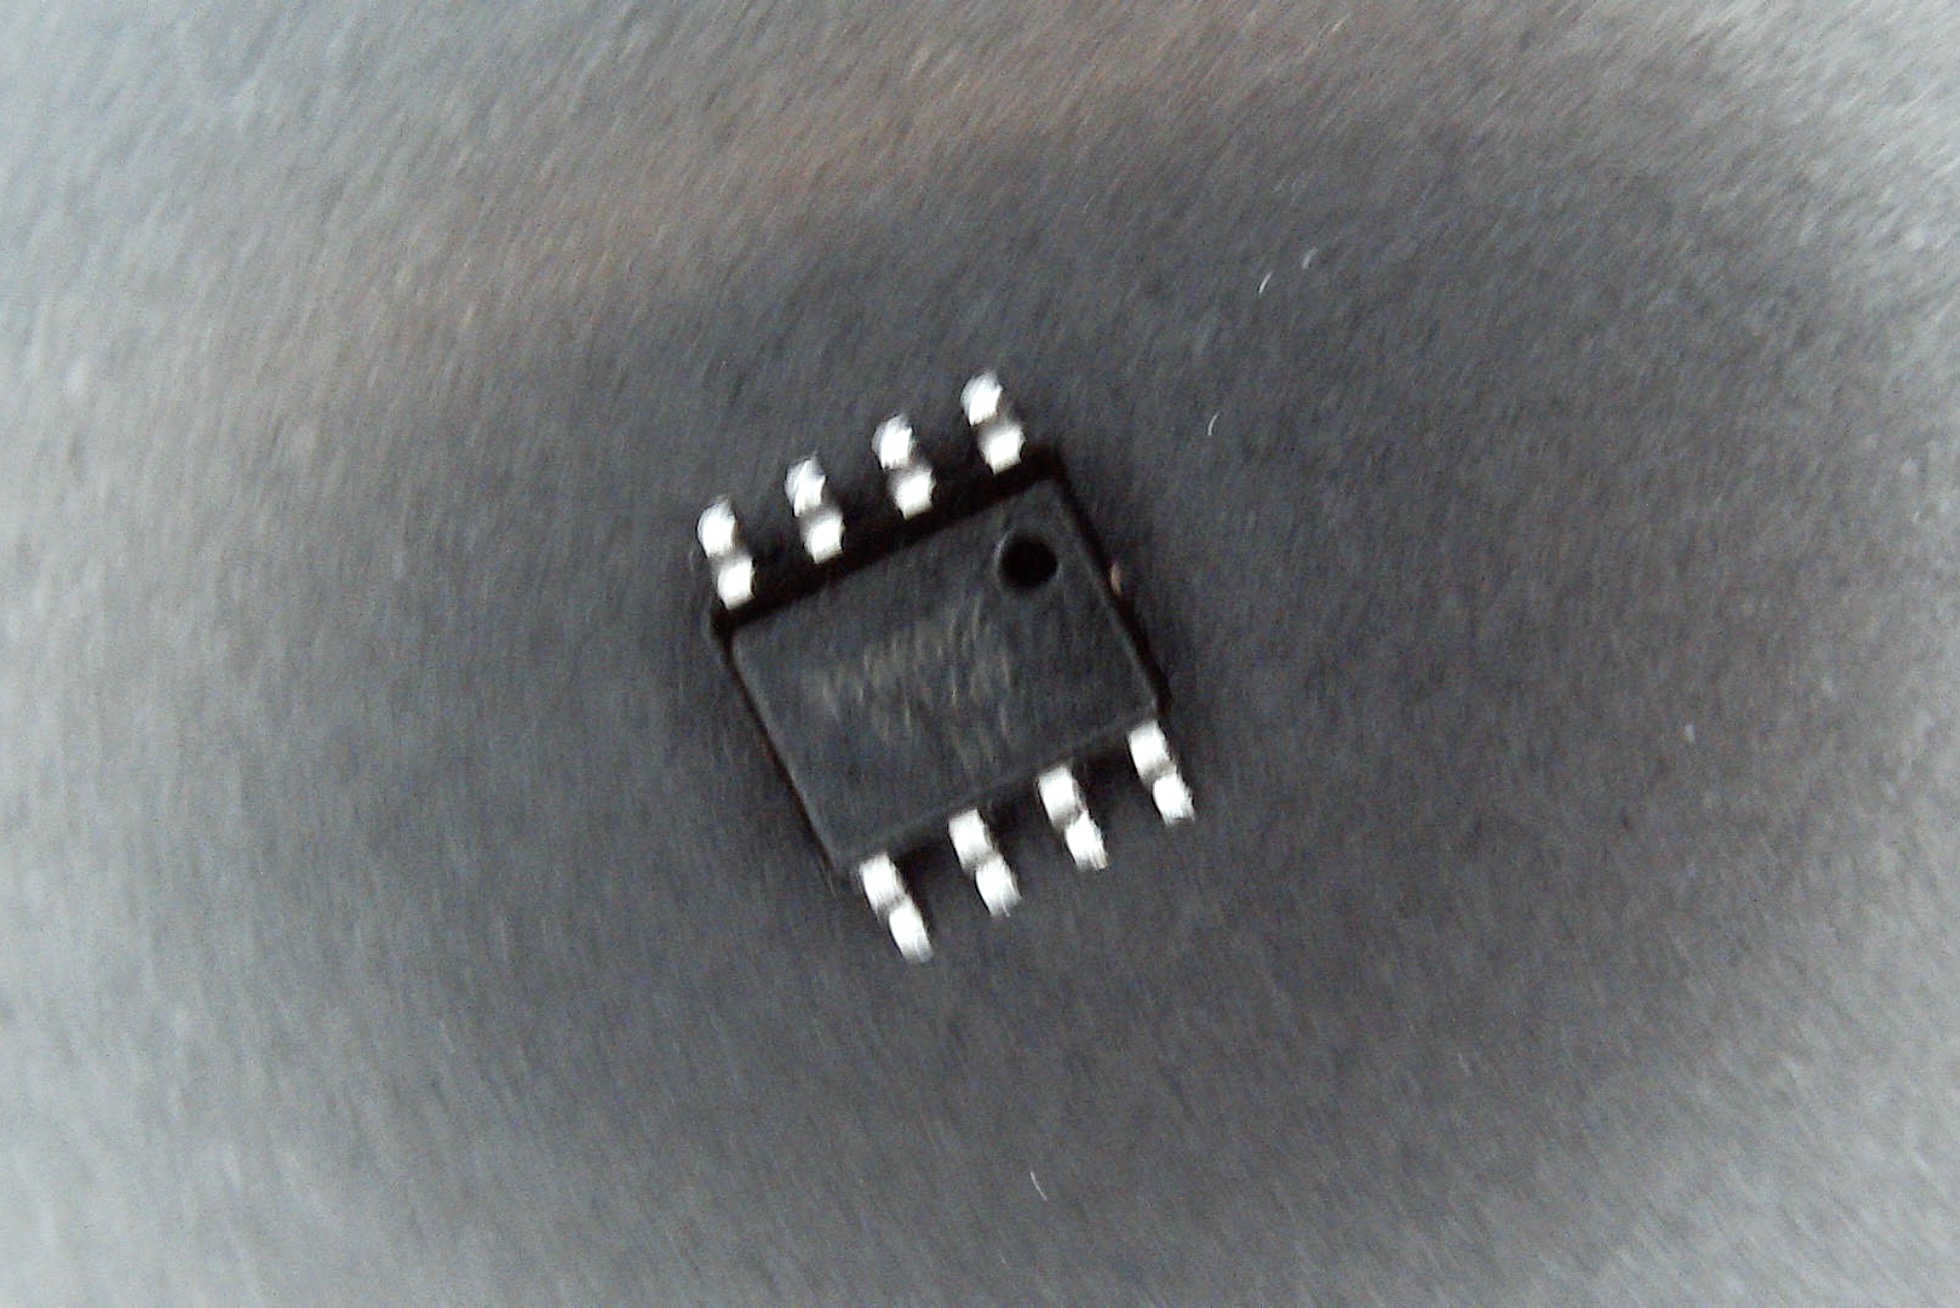bbox: (693, 363, 1197, 966)
